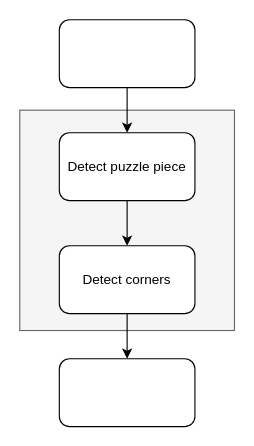
This 254x446 diagram has some shape labels left out. The centre of each missing label's shape, as x and y in pixels:
Output corner coordinates: the point at 126,392
Read each image from input folder: the point at 126,53
